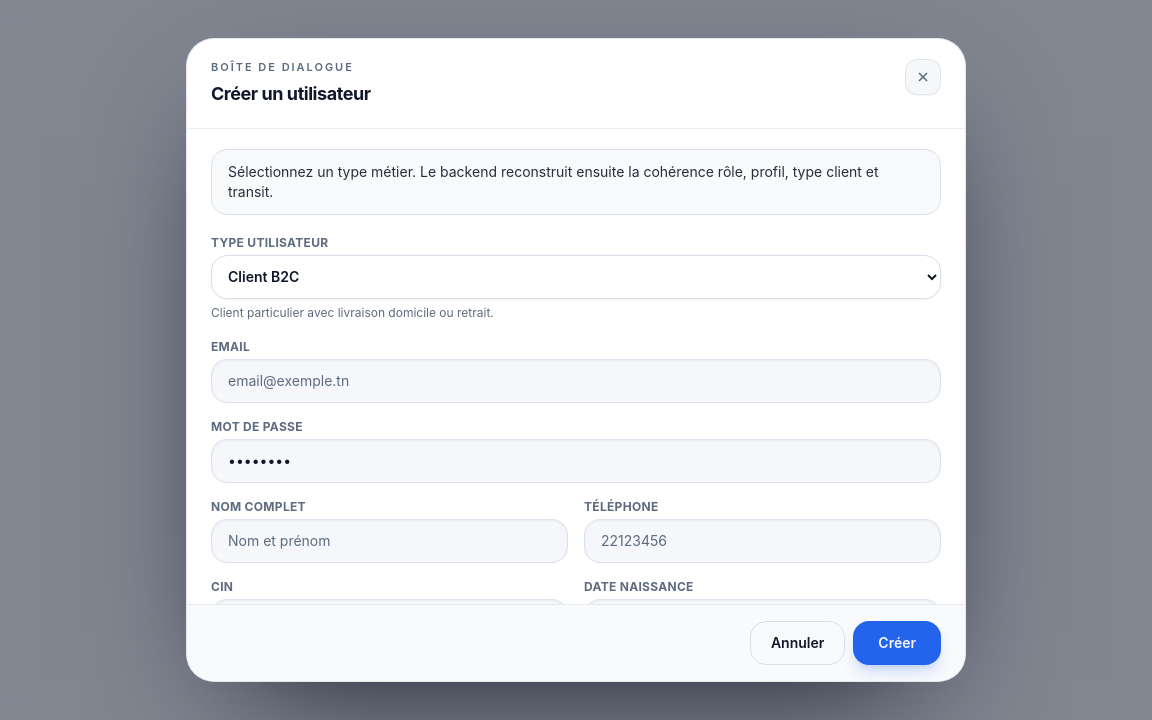
AdminCreateUserModal › shows company fields for CLIENT_B2B
Select "Client B2B" in the dropdown labelled "Type utilisateur" at (576, 277), box [211,255,941,299]
(page scrolled)
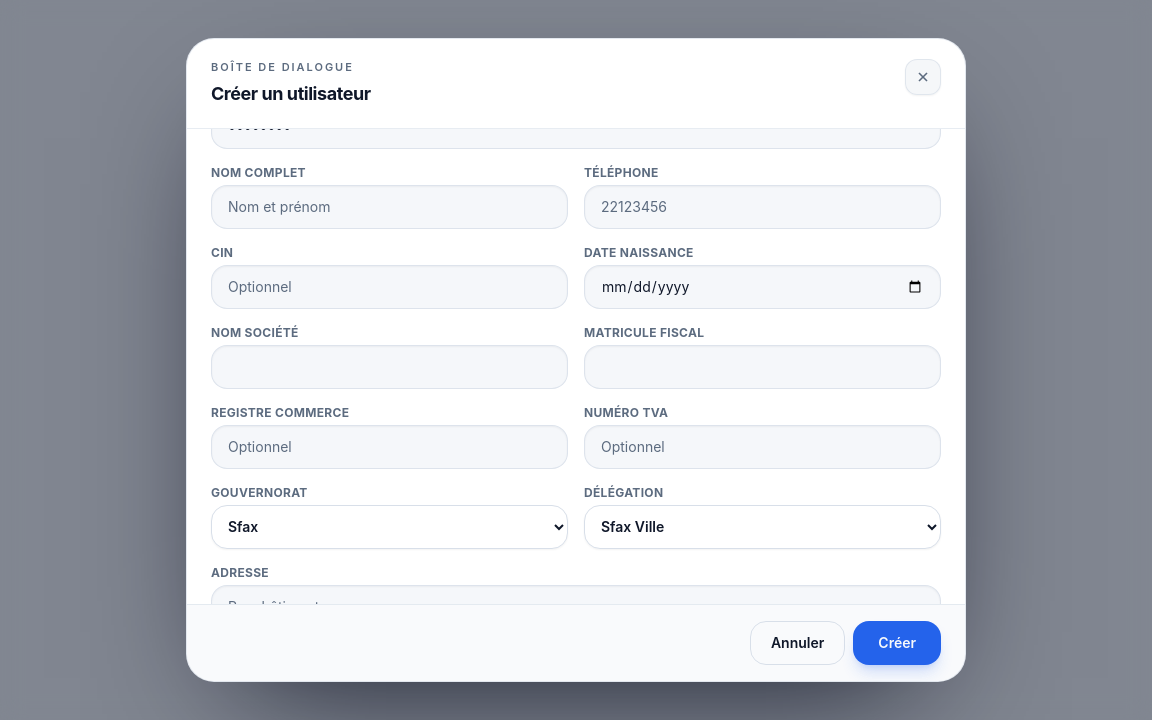
Expected: the field labelled "Nom société" is shown, [211,345,568,389]
Expected: the field labelled "Matricule fiscal" is shown, [584,345,941,389]
